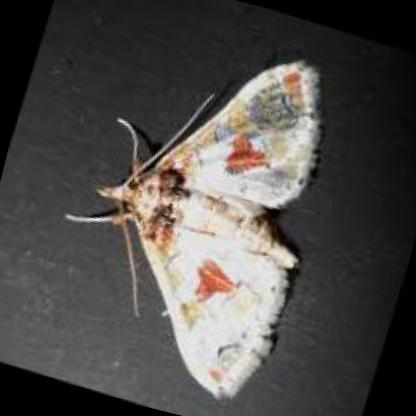leucinodes: (99, 63, 321, 407)
